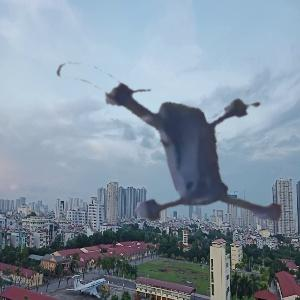drone: (47, 32, 279, 264)
